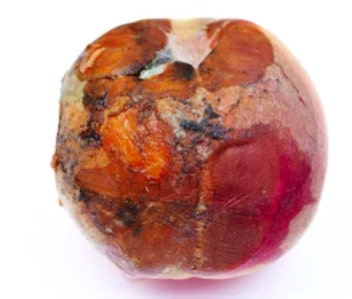damaged_peach: (54, 19, 324, 281)
